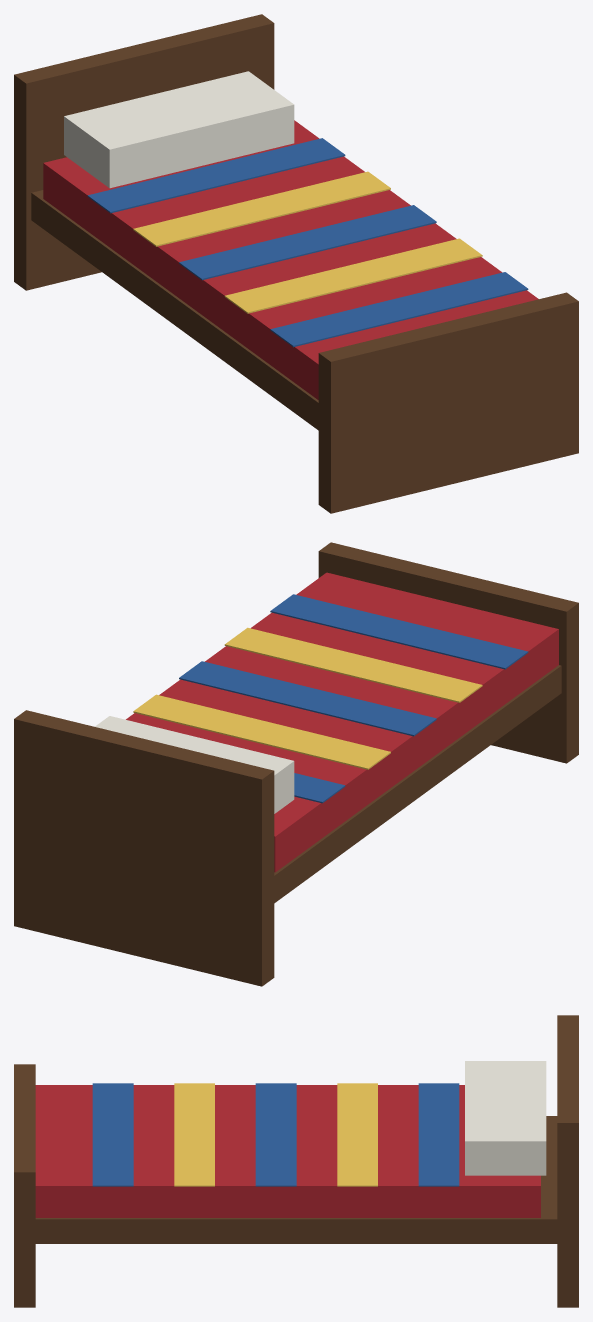
Rendered from Interior_Bed.obj.
3 renders of one model, top to bottom at view 1: azimuth 30°, elevation 25°; view 2: azimuth 150°, elevation 25°; view 3: azimuth 270°, elevation 25°, orthographic. The views are drawn at different scales.
Parts seen in each view (by area): view 1: Interior_Bed; view 2: Interior_Bed; view 3: Interior_Bed.
Boxes of the visible parts, x1,y1,x2,y2 form: Interior_Bed: (14, 14, 578, 513); Interior_Bed: (14, 542, 578, 986); Interior_Bed: (14, 1015, 578, 1307).
Bounding box in the file's own units: 0.94 × 0.75 × 2.08.
